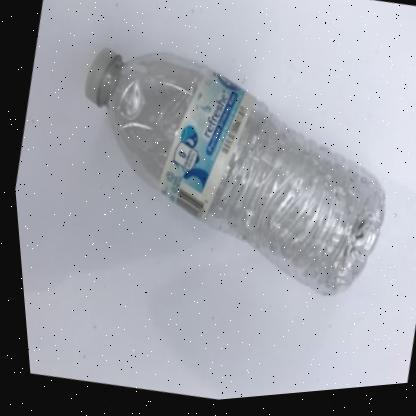Plastic: (83, 50, 380, 300)
